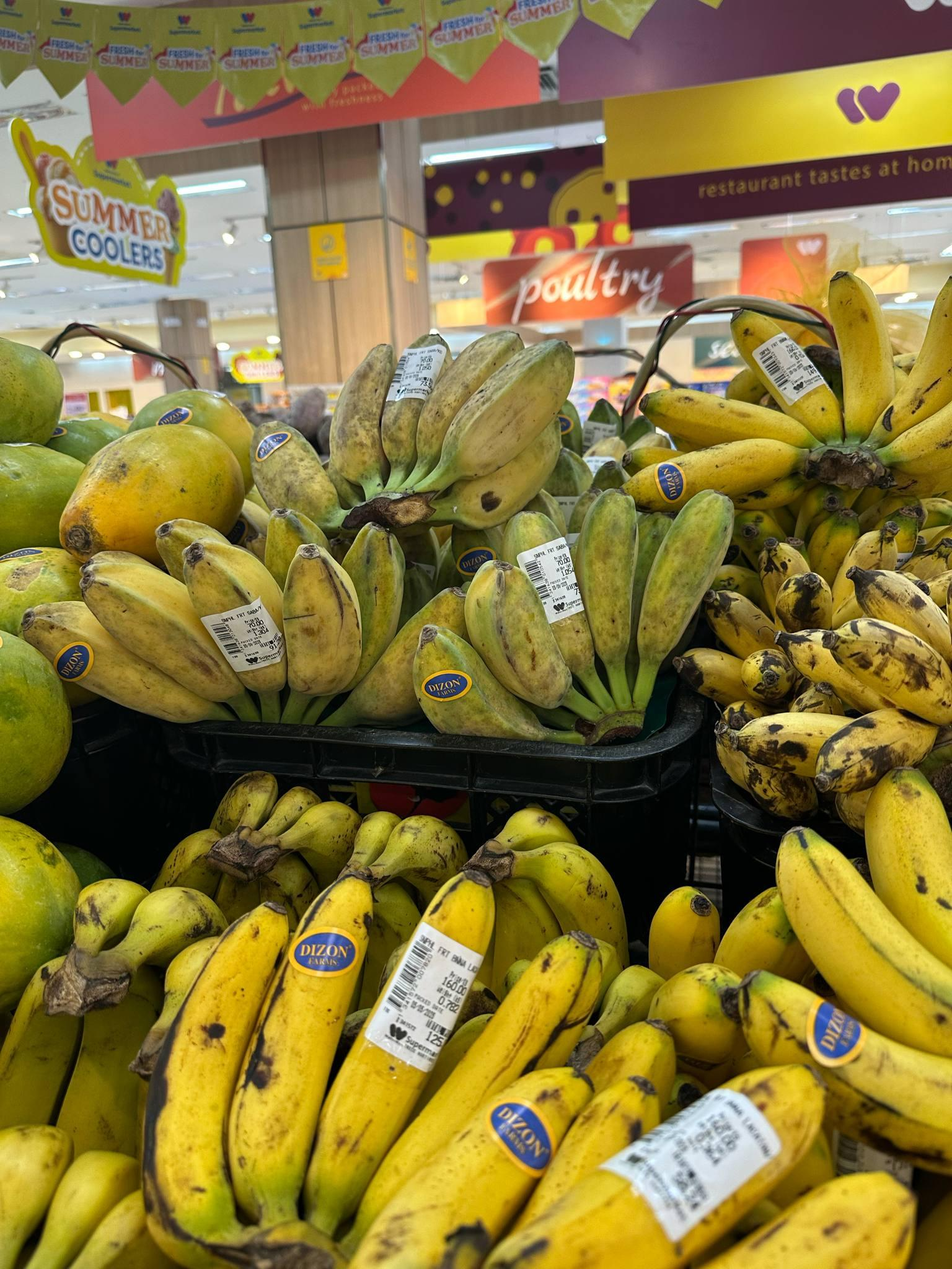underripe: (22, 507, 471, 727), (413, 489, 735, 741), (249, 332, 575, 531)
